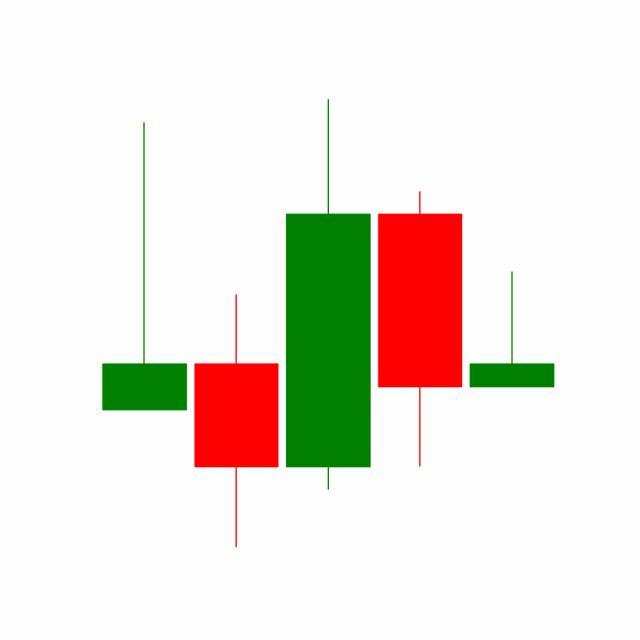Gravestone Doji: (466, 271, 559, 390)
